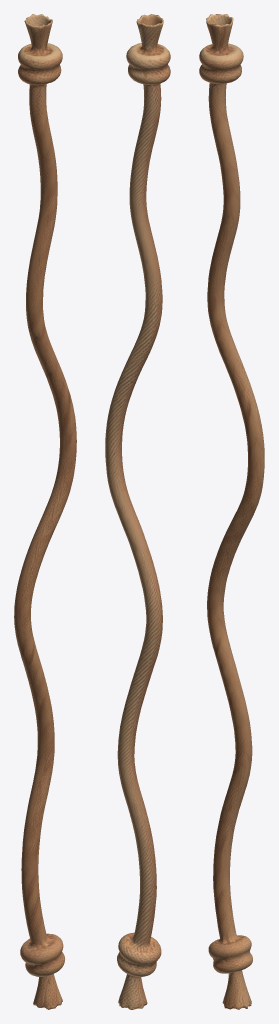
File: Meshy_AI_Lone_Rope_0509173909_texture.fbx
The picture shows the model from 3 angles, left to right: view 1: azimuth 30°, elevation 25°; view 2: azimuth 150°, elevation 25°; view 3: azimuth 330°, elevation 25°; orthographic projection.
Parts seen in each view (by area): view 1: Mesh_0; view 2: Mesh_0; view 3: Mesh_0.
Part boxes in pixels (left/top/right/bottom): Mesh_0: left=14, top=14, right=76, bottom=1009; Mesh_0: left=105, top=14, right=170, bottom=1009; Mesh_0: left=199, top=14, right=264, bottom=1009.
Size of the model in its own units: 11.78 by 191 by 8.99.
Materials: 1 (1 with a texture image).
